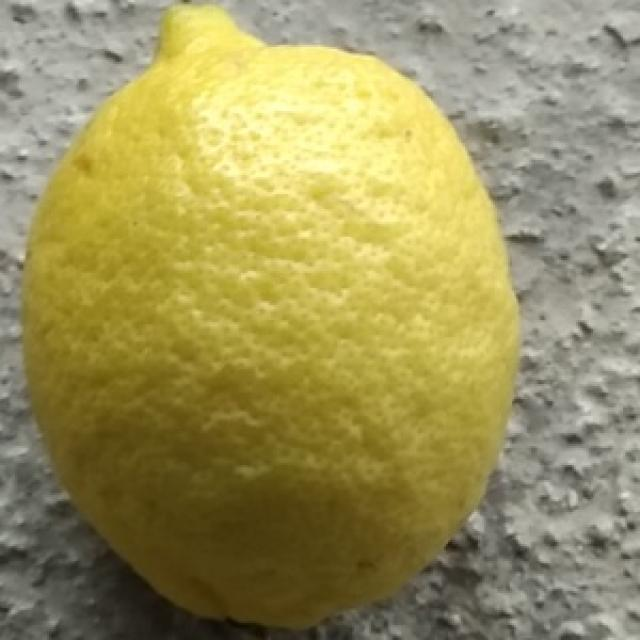Ripe: (18, 2, 530, 634)
